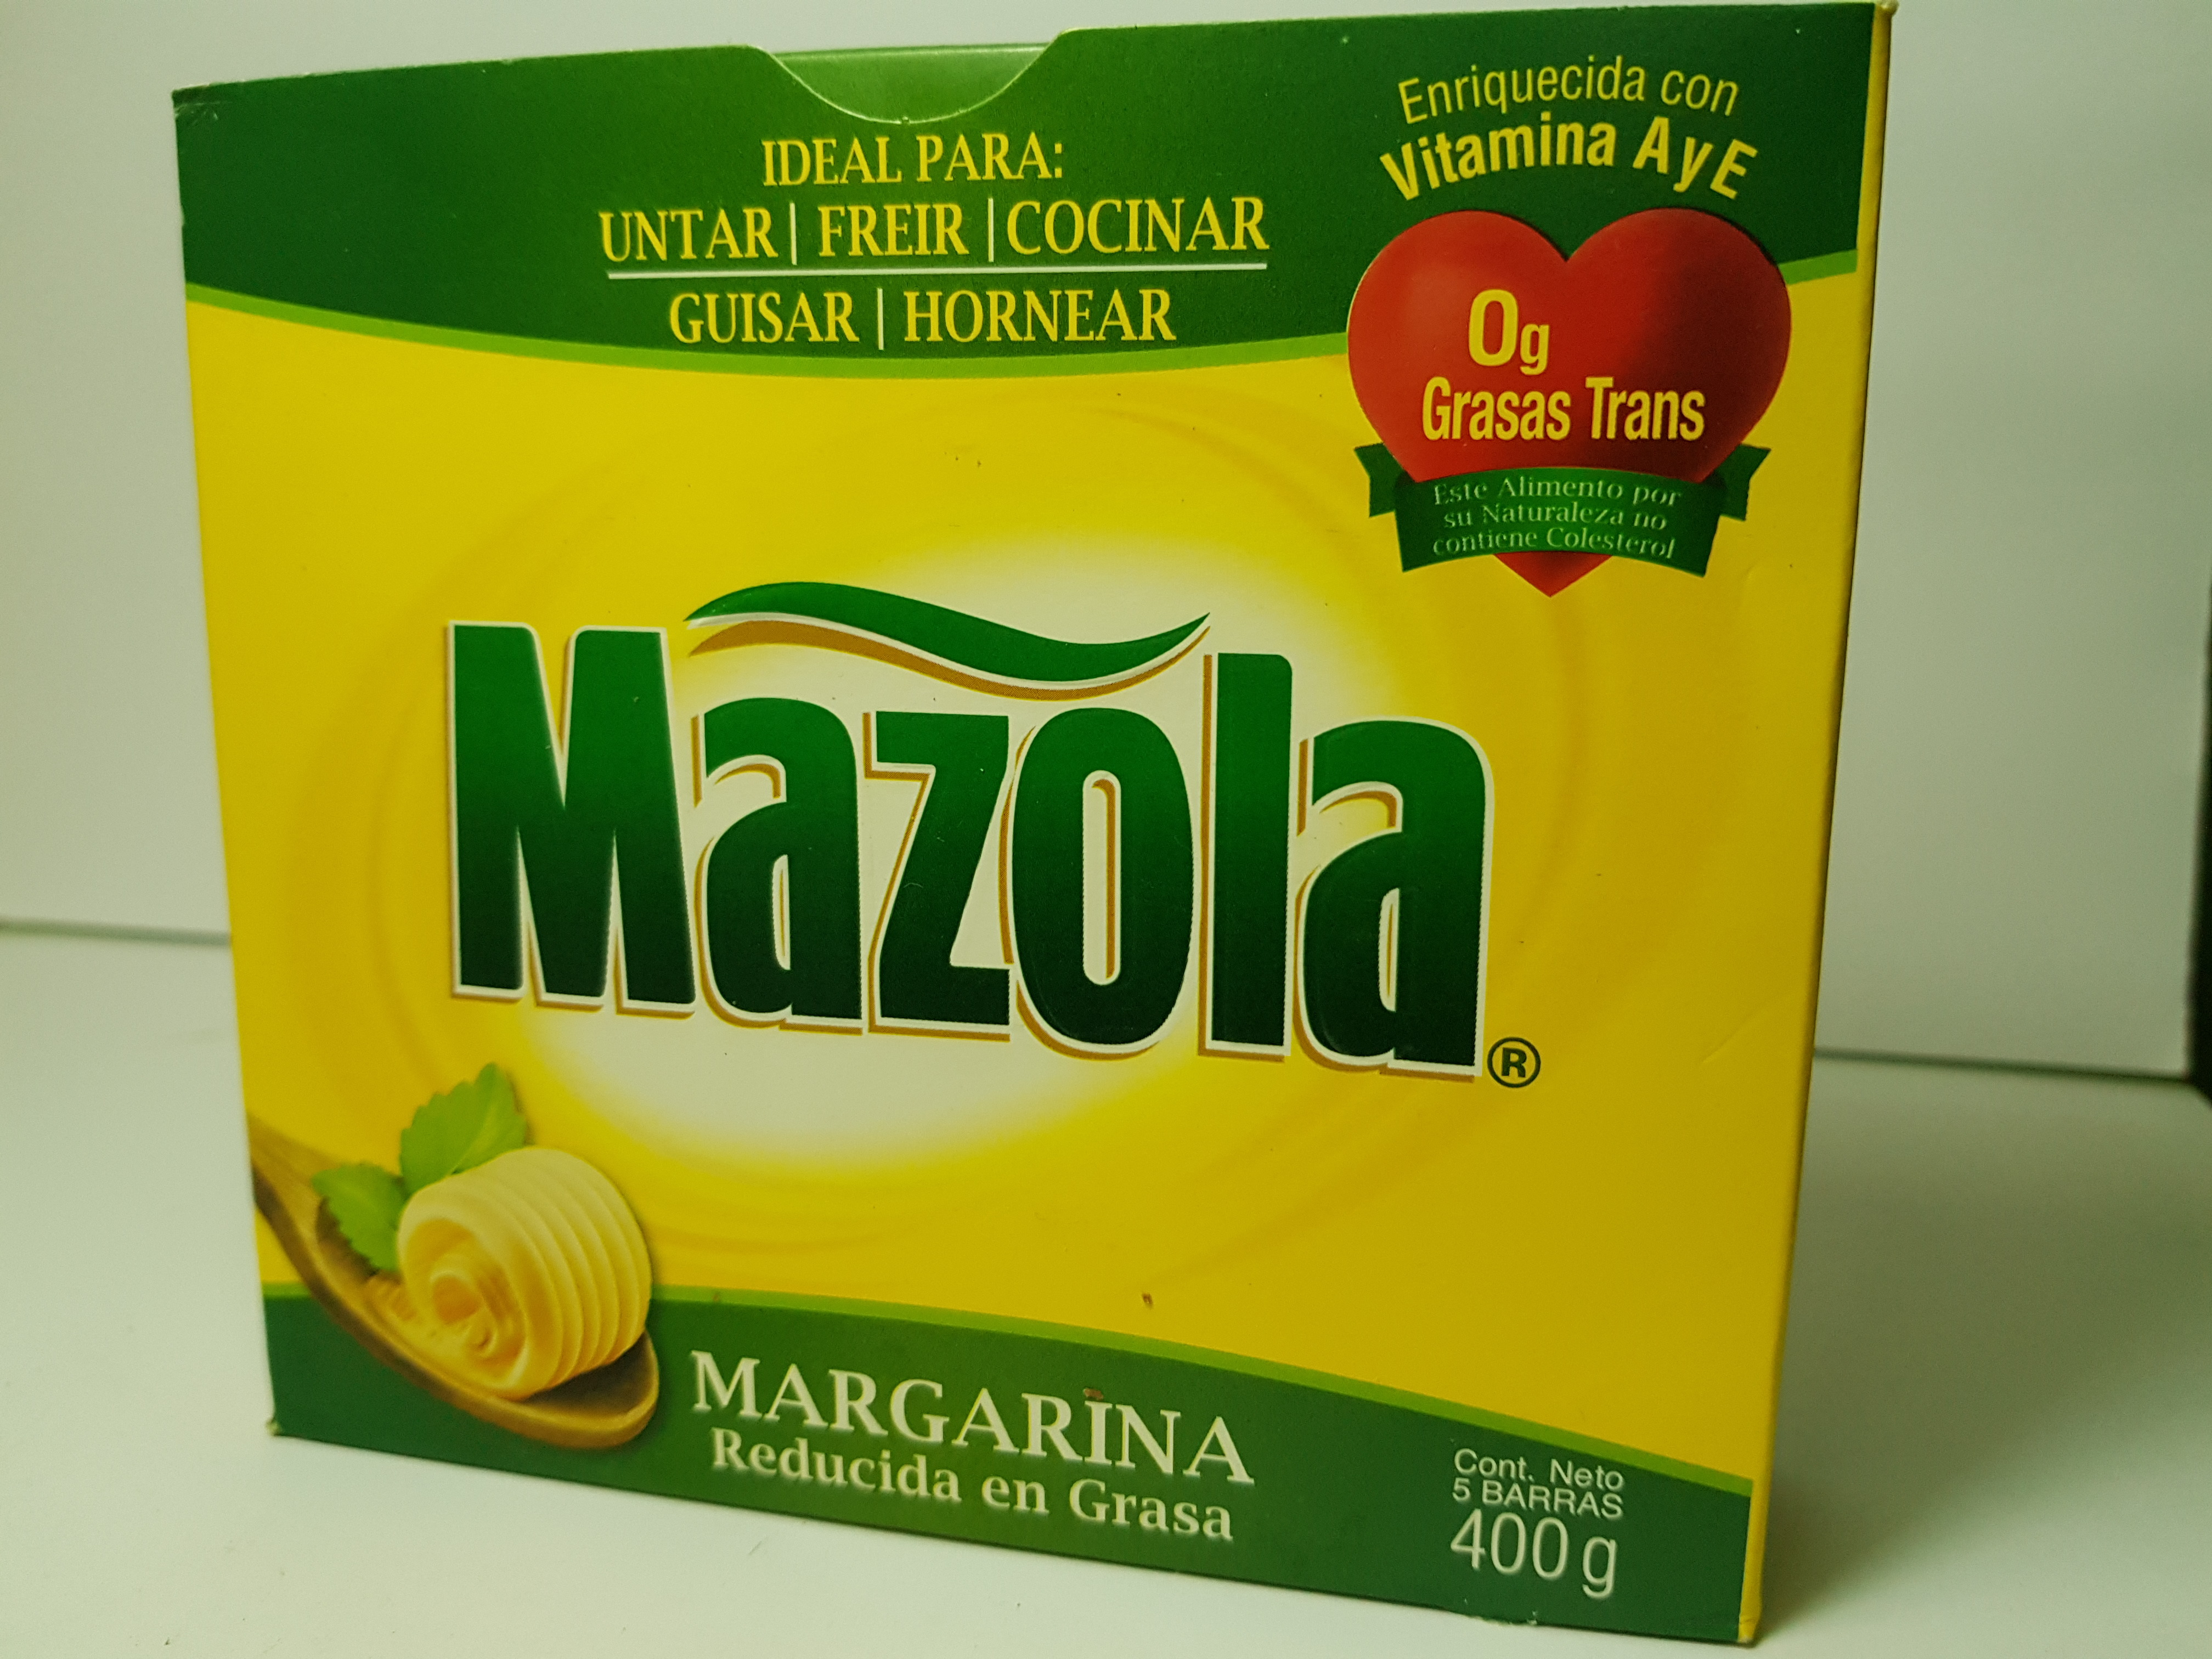mazola: (146, 5, 1939, 1659)
